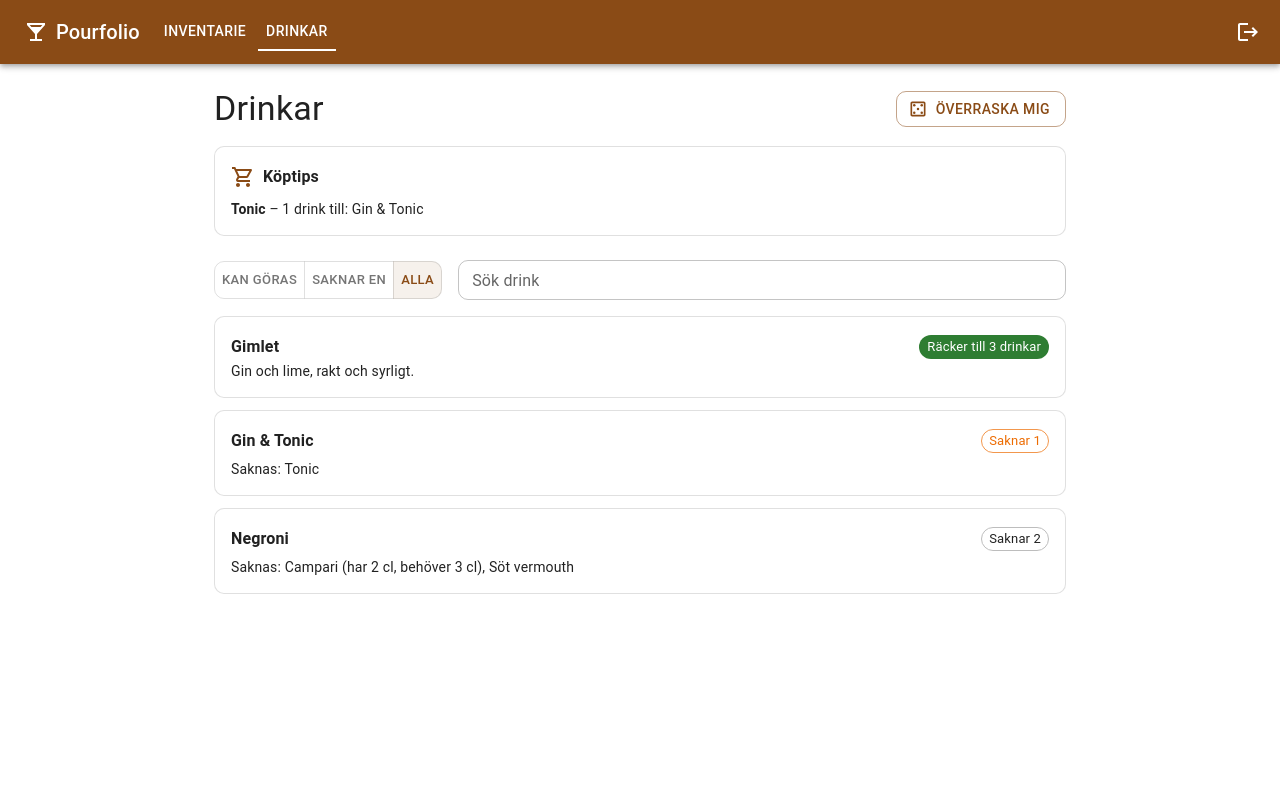
DrinksPage › searches by name
Check: the element "Negroni" is shown, box [214,508,1066,594]
Type "neg" into the search field labelled "Sök drink" at (762, 280), box [458,260,1066,300]
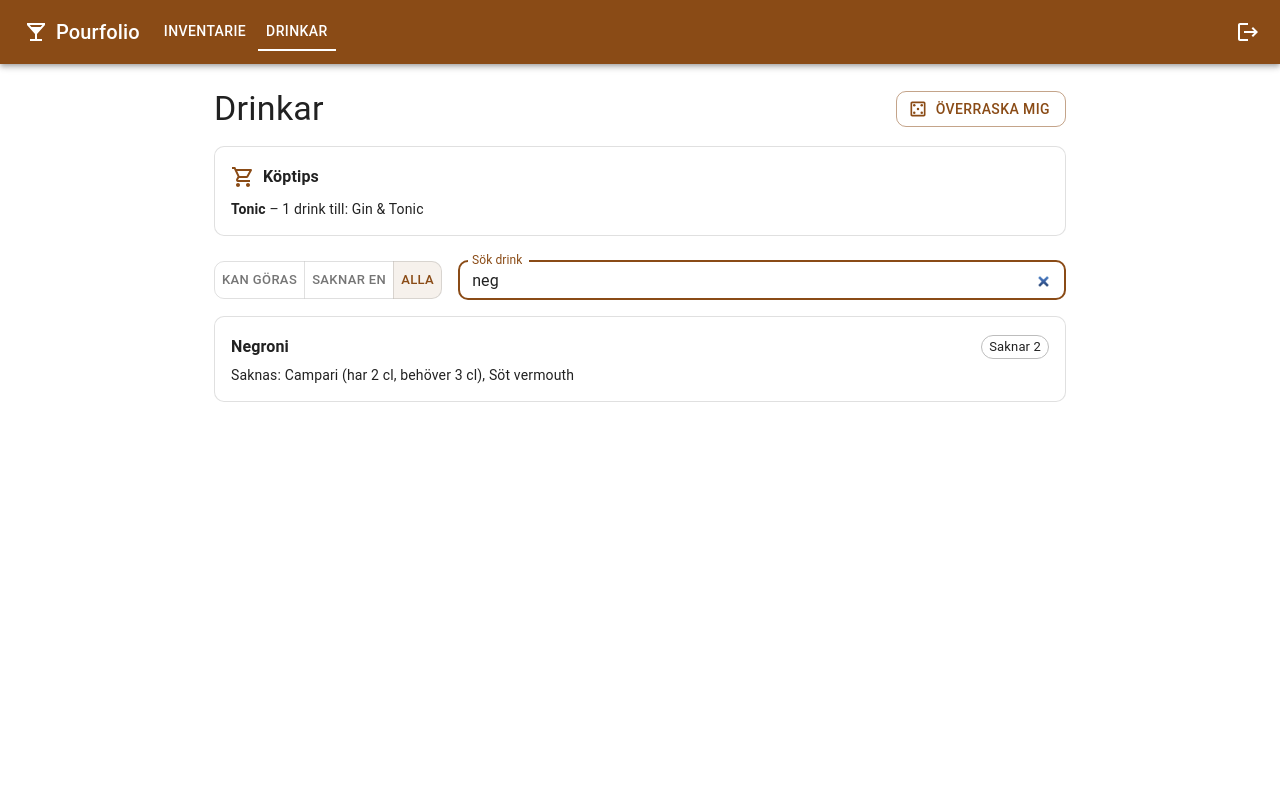
Check: the element "Negroni" is shown, box [214,316,1066,402]
Check: the link "Gimlet" is gone
